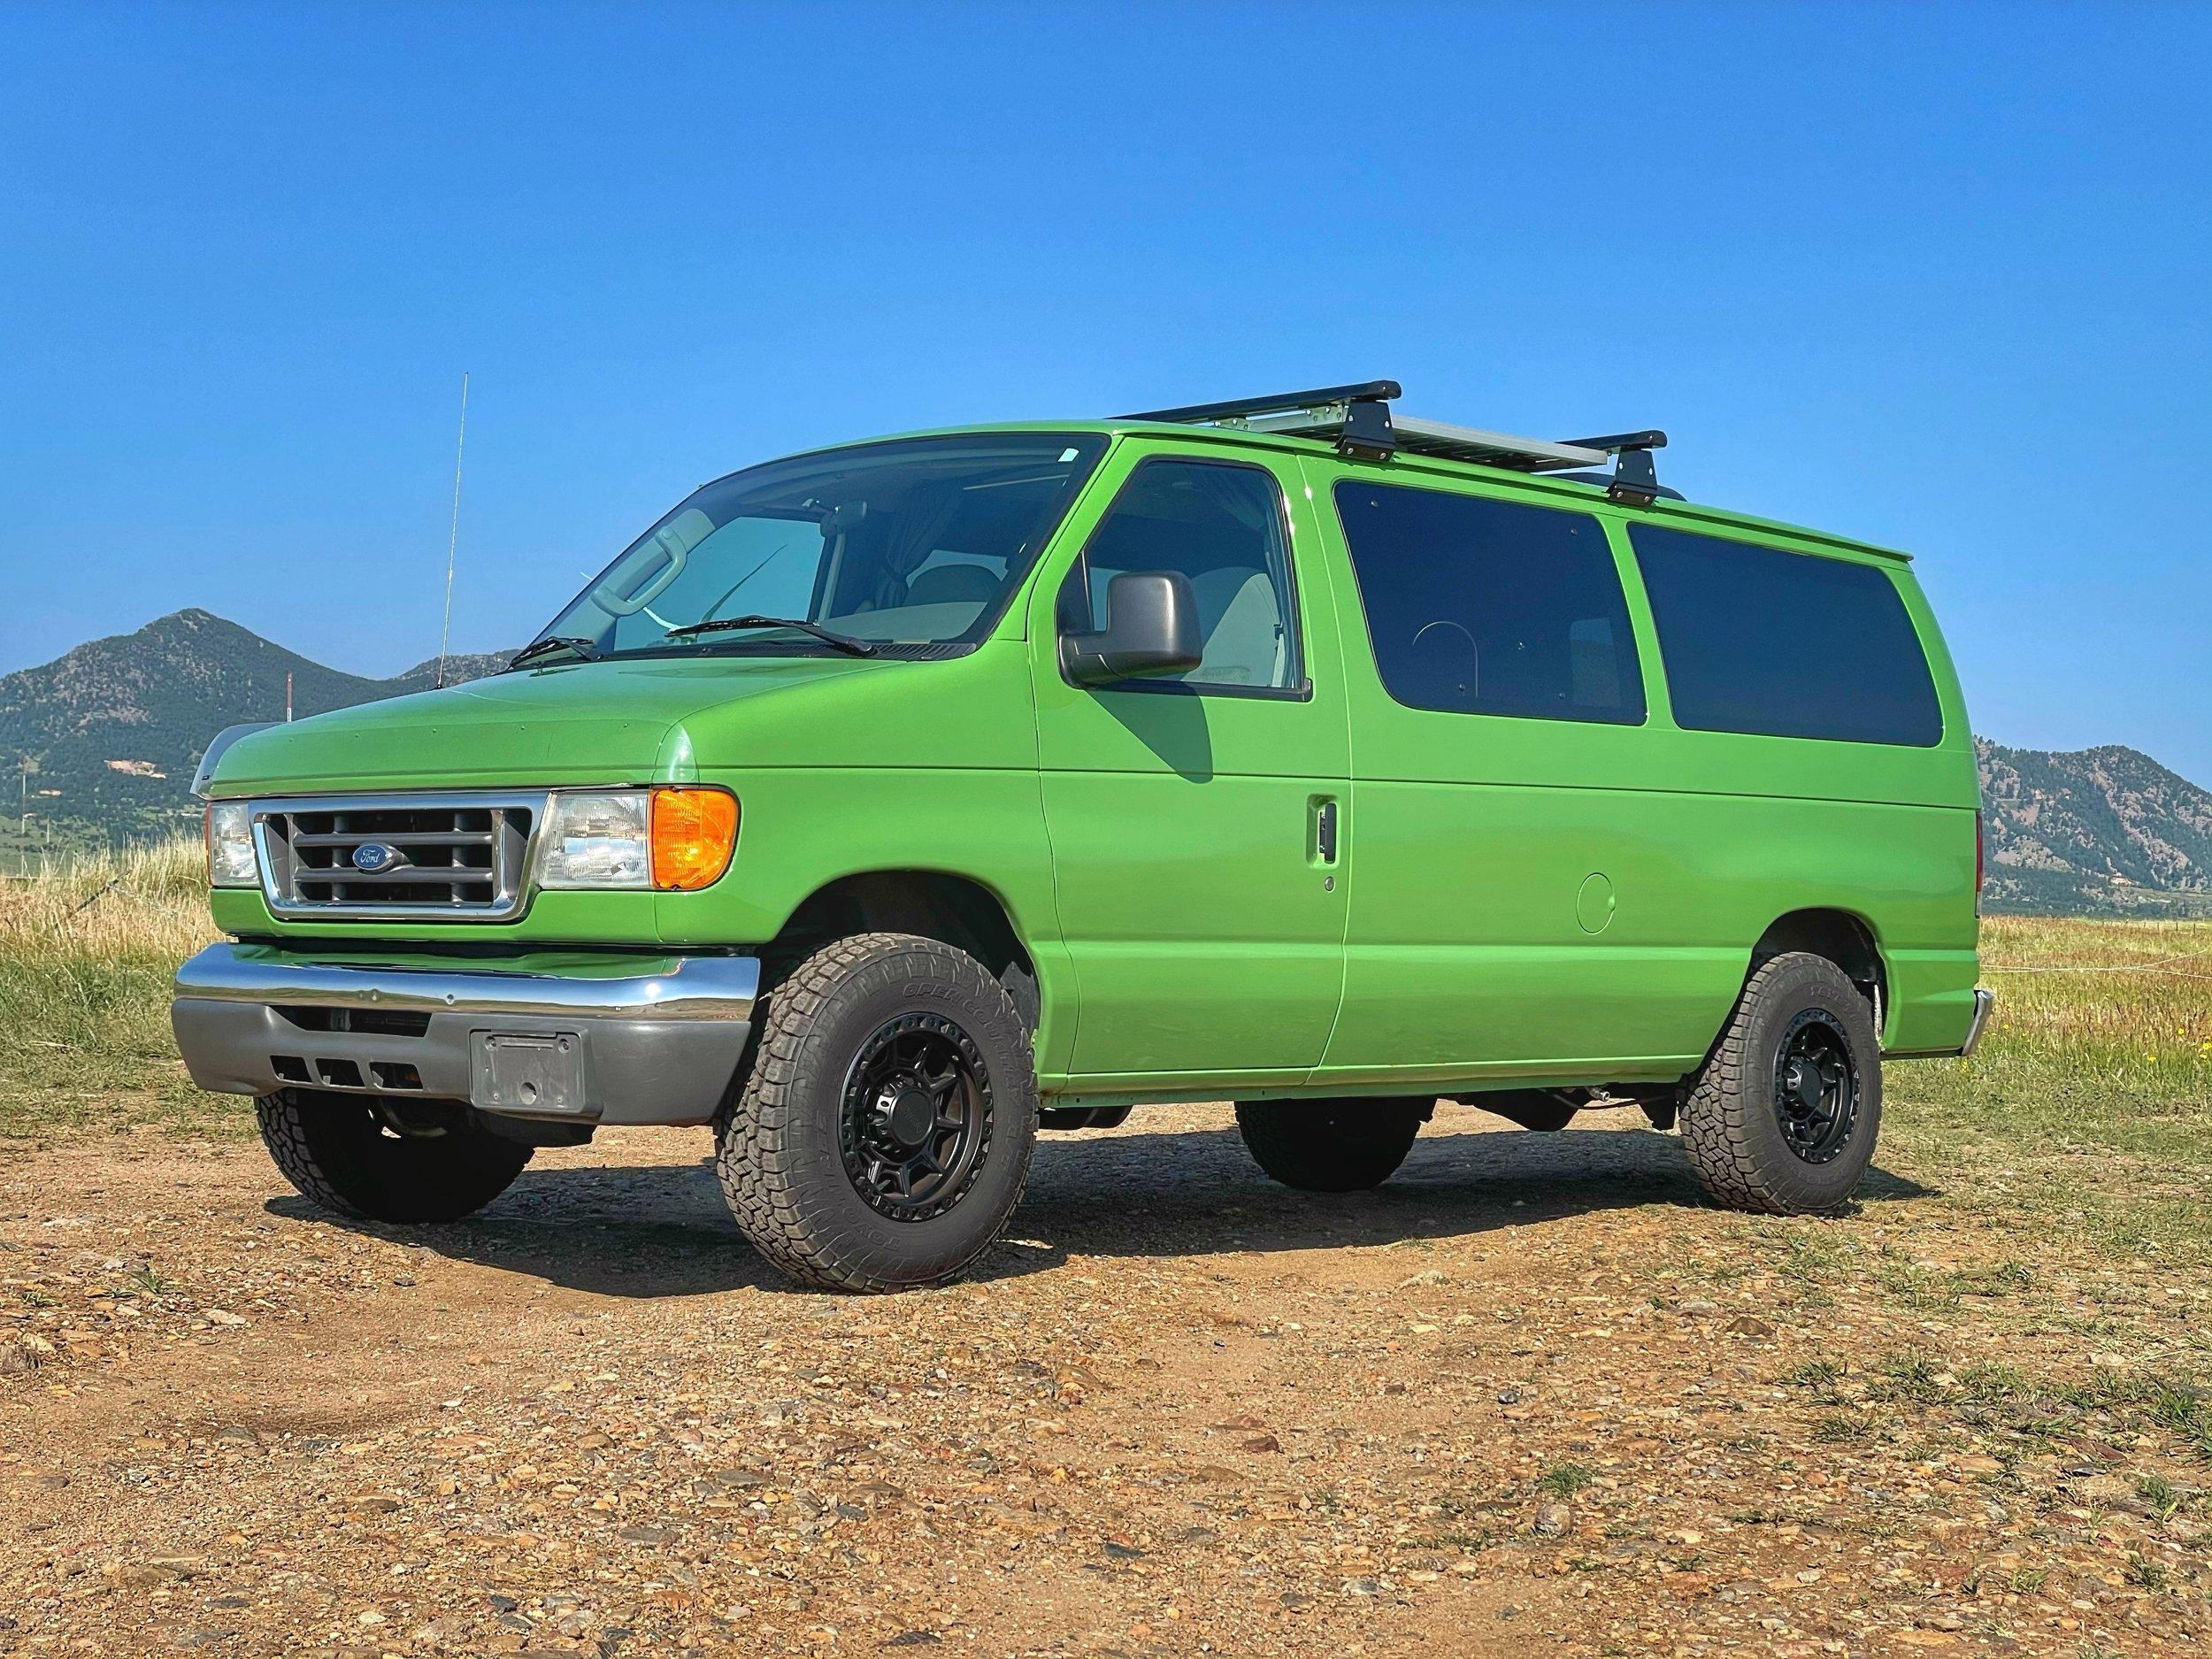van: (171, 382, 1996, 1297)
